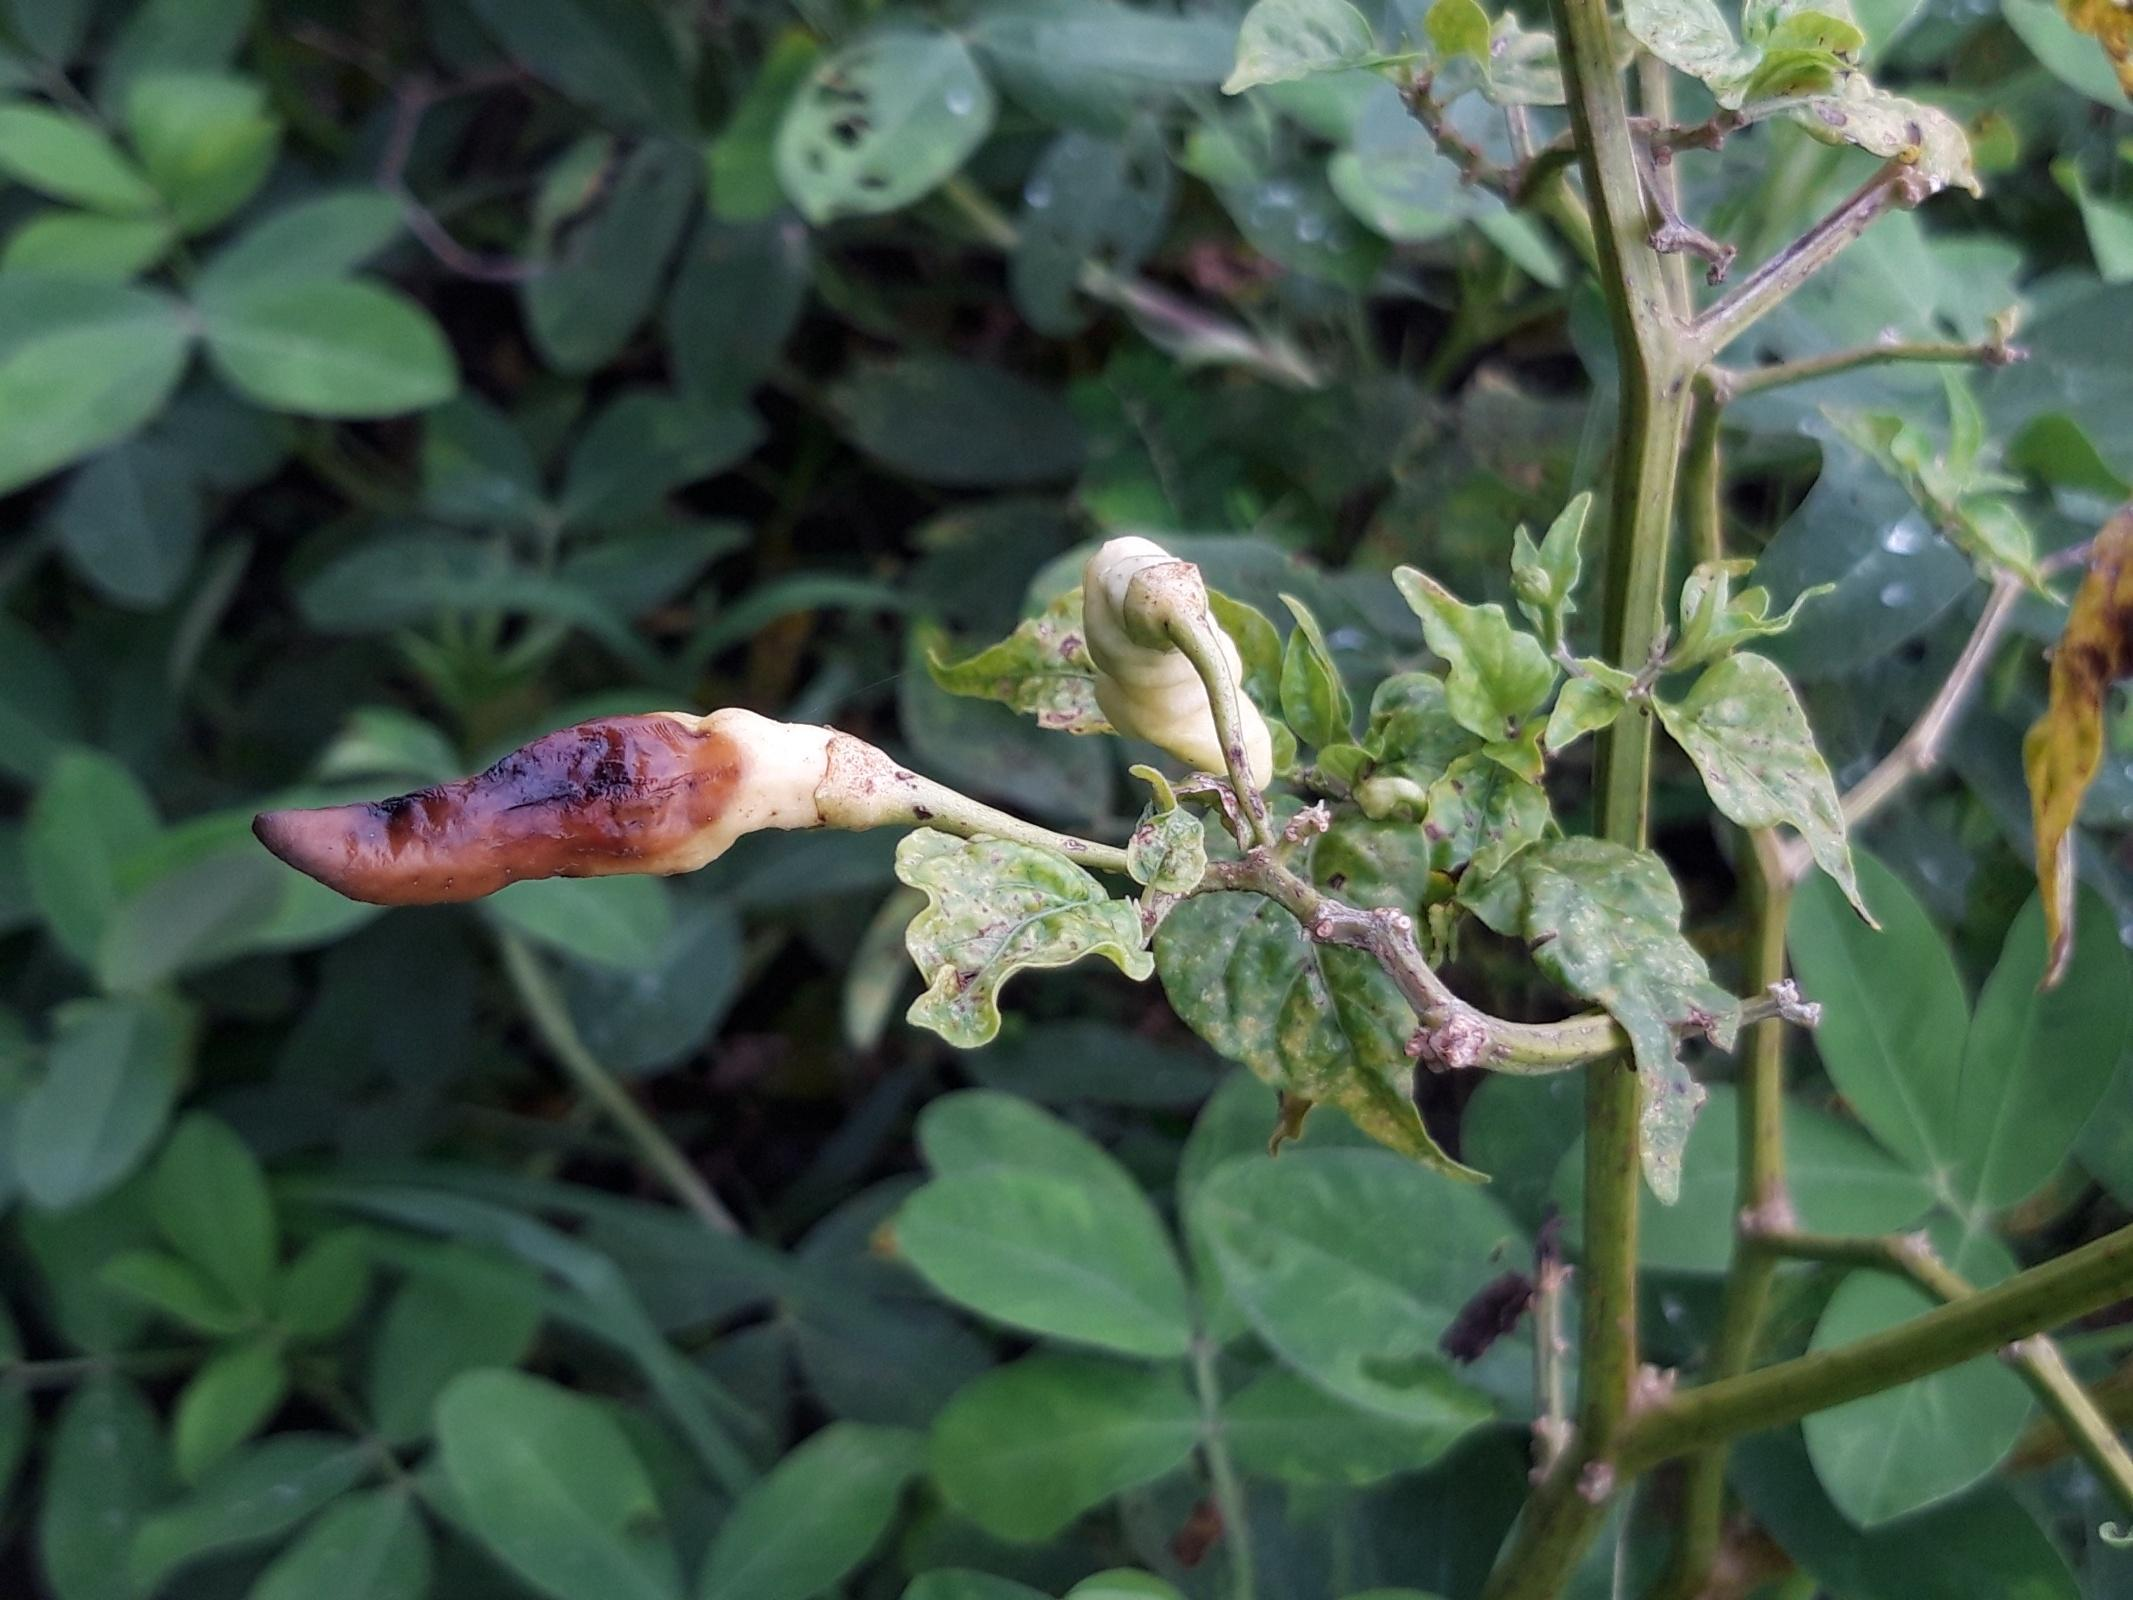cabai_normal: (1084, 536, 1276, 793)
lalat_buah: (254, 699, 903, 913)
